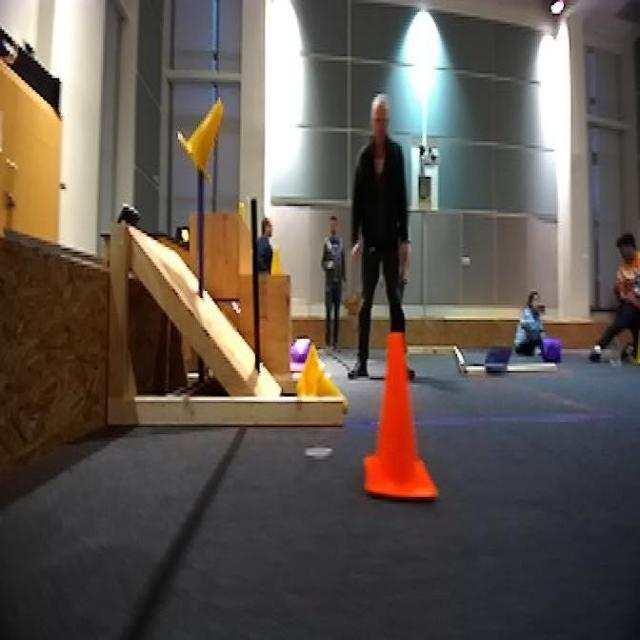frc_cone: (177, 95, 220, 184), (296, 344, 347, 403), (264, 246, 288, 288)
frc_cube: (537, 336, 561, 362), (288, 336, 310, 364)
